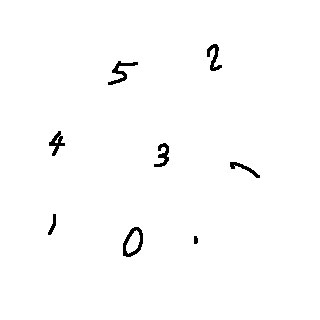.: (192, 227, 202, 253)
0: (106, 225, 151, 260)
1: (228, 154, 275, 203), (42, 210, 65, 245)
2: (195, 42, 233, 81)
3: (151, 138, 180, 170)
4: (48, 124, 70, 163)
5: (103, 57, 148, 88)
